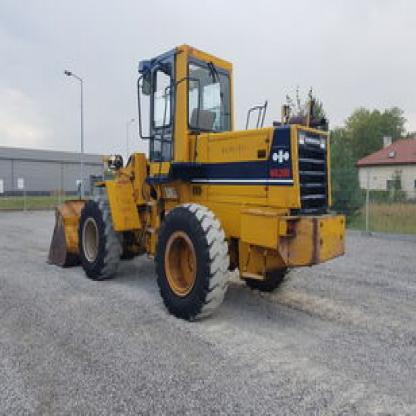bull_dozer/loader/grader: (43, 34, 350, 332)
